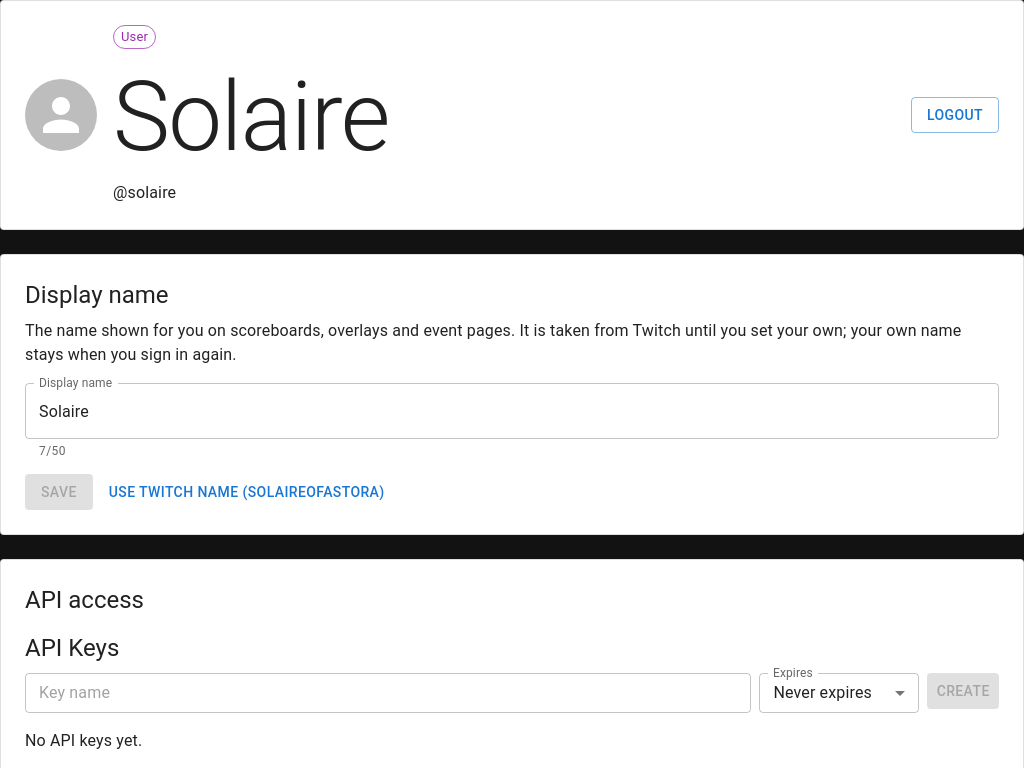
Test: ProfilePage display name › resets to the Twitch name by sending null
Step 1. Click the button "Use Twitch name (SolaireOfAstora)" → (247,492), box [101,474,393,510]
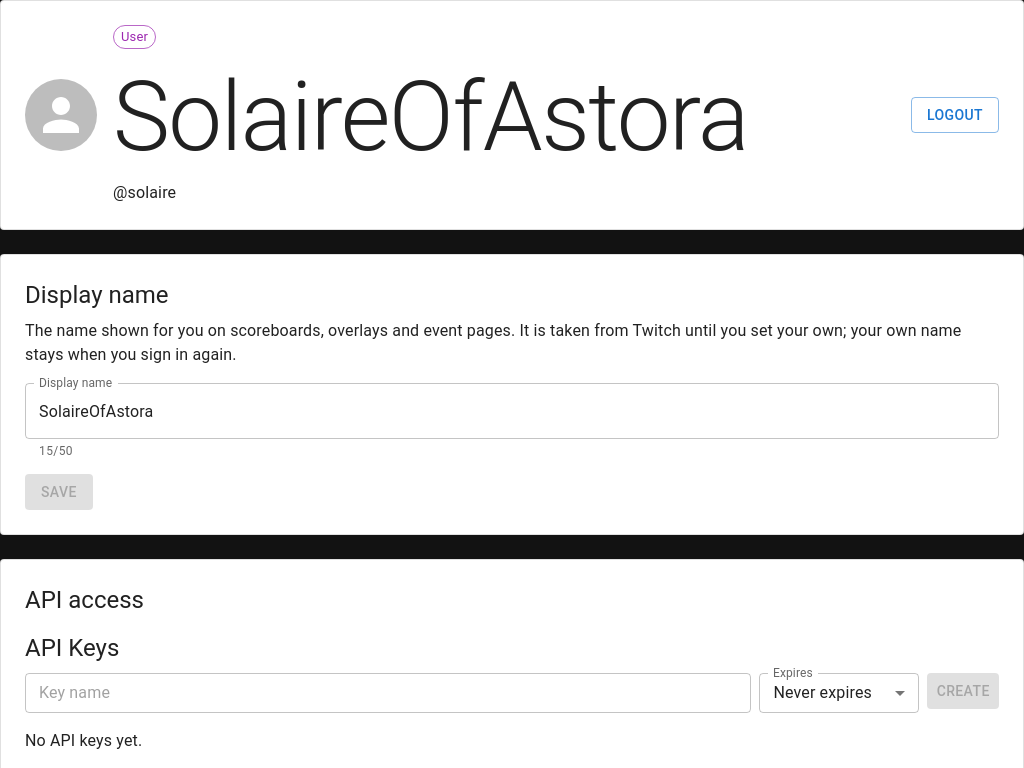
Now the heading "SolaireOfAstora" is shown, box [113,61,748,173]
